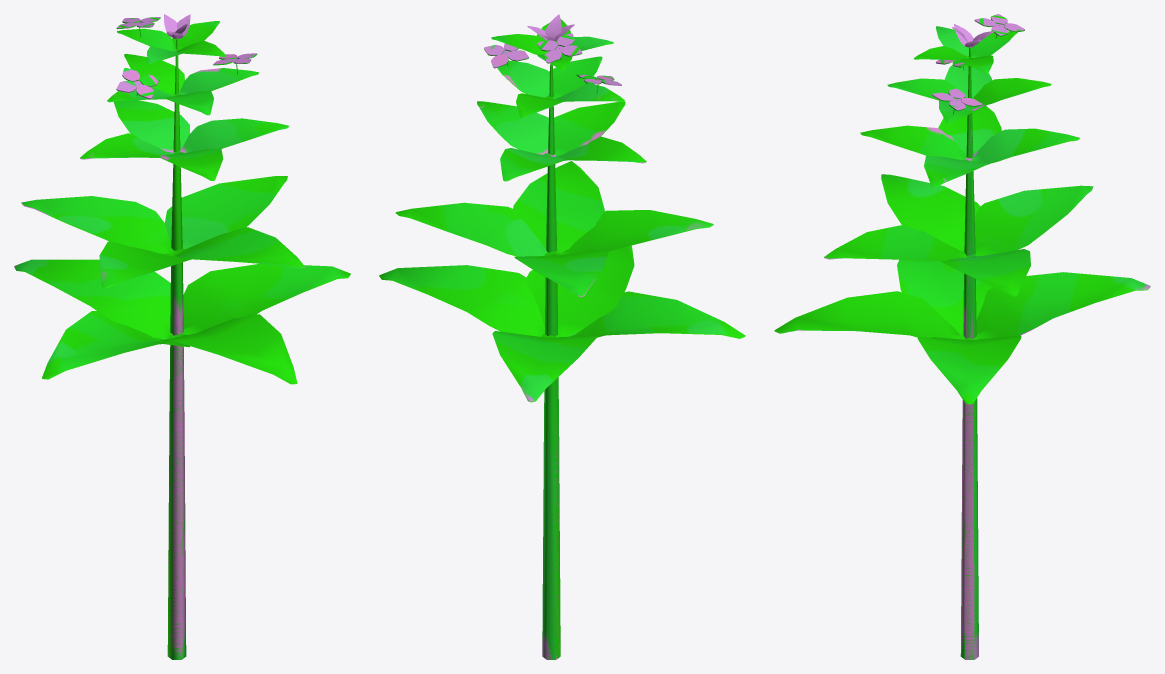
Rendered from planta_blechum_pyramidatum.fbx.
3 renders of one model, left to right at view 1: azimuth 30°, elevation 25°; view 2: azimuth 150°, elevation 25°; view 3: azimuth 270°, elevation 25°, orthographic.
Visible parts, largest first — view 1: Cylinder.001; view 2: Cylinder.001; view 3: Cylinder.001.
Boxes of the visible parts, left/top/right/bottom form: Cylinder.001: left=14, top=14, right=350, bottom=659; Cylinder.001: left=379, top=14, right=745, bottom=659; Cylinder.001: left=774, top=14, right=1150, bottom=659.
Size of the model in its own units: 1835 by 3306 by 1790.
1 material, 1 textured.
